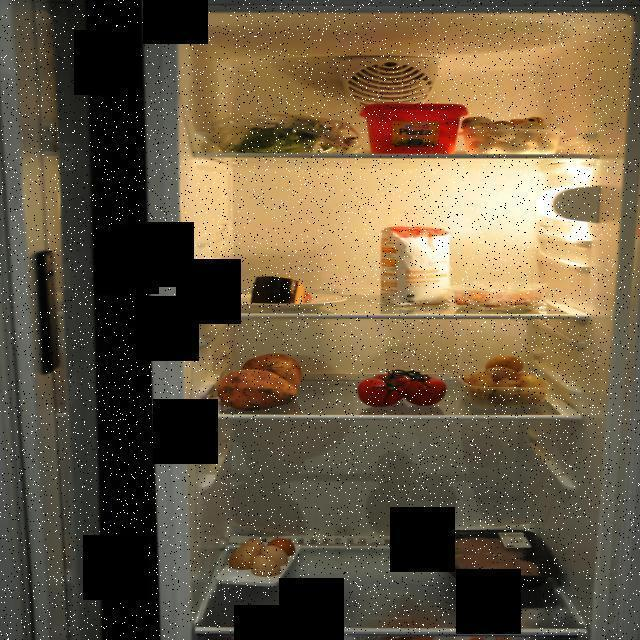butter: (360, 101, 466, 156)
cheese: (249, 274, 315, 308)
chicken_breast: (440, 532, 543, 584)
egg: (230, 532, 299, 578)
green_beans: (216, 114, 360, 152)
mushrooms: (454, 114, 562, 156)
potato: (456, 354, 548, 406)
shrimp: (451, 286, 552, 308)
sugar: (379, 226, 452, 308)
sweet_potato: (220, 353, 302, 413)
tomato: (357, 364, 448, 410)
